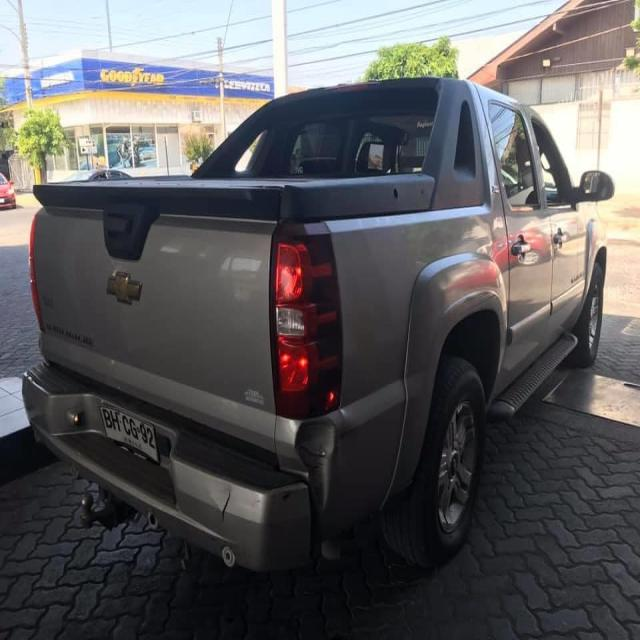patente: (99, 403, 160, 465)
